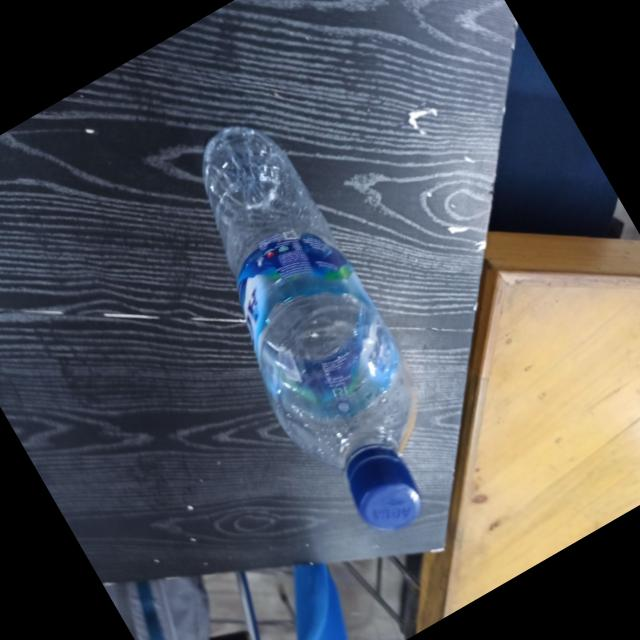BotolPlastik: (138, 106, 482, 556)
